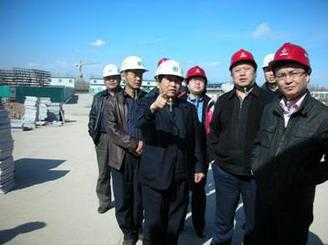helmet: (268, 41, 314, 98), (153, 56, 185, 99), (227, 46, 258, 90), (120, 52, 147, 91), (185, 63, 209, 97), (101, 61, 121, 93), (262, 52, 278, 85)
